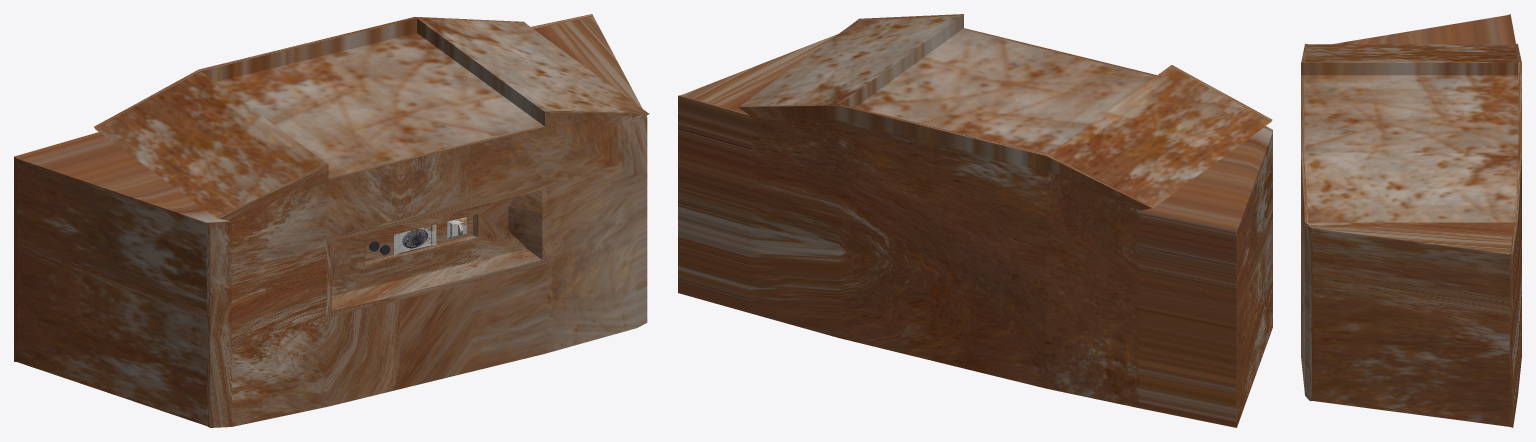
File: Holder_Desk.glb
The picture shows the model from 3 angles, left to right: view 1: azimuth 30°, elevation 25°; view 2: azimuth 150°, elevation 25°; view 3: azimuth 270°, elevation 25°; orthographic projection. The views are drawn at different scales.
Parts seen in each view (by area): view 1: Cube, Cube.001; view 2: Cube; view 3: Cube.
Part boxes in pixels (x1,y1,x2,y2): Cube: (14,14,649,427); Cube.001: (394,224,436,254); Cube: (678,14,1272,427); Cube: (1301,14,1521,427).
Size of the model in its own units: 5.34 by 2.13 by 2.08.
Materials: 6 (6 with a texture image).
